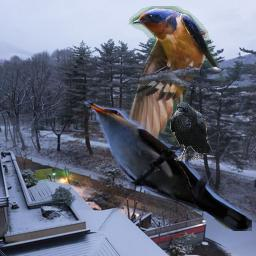Crow: (170, 102, 211, 161)
Cuckoo: (83, 99, 252, 231)
Swallow: (118, 6, 225, 176)
